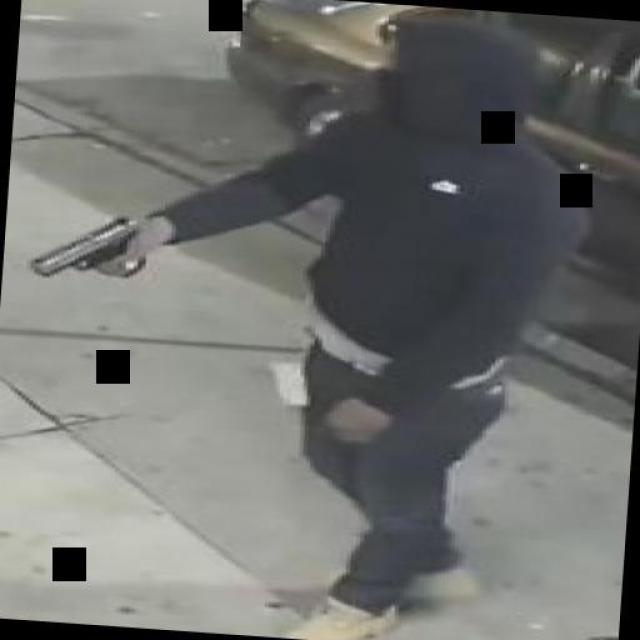gun: (22, 206, 158, 282)
